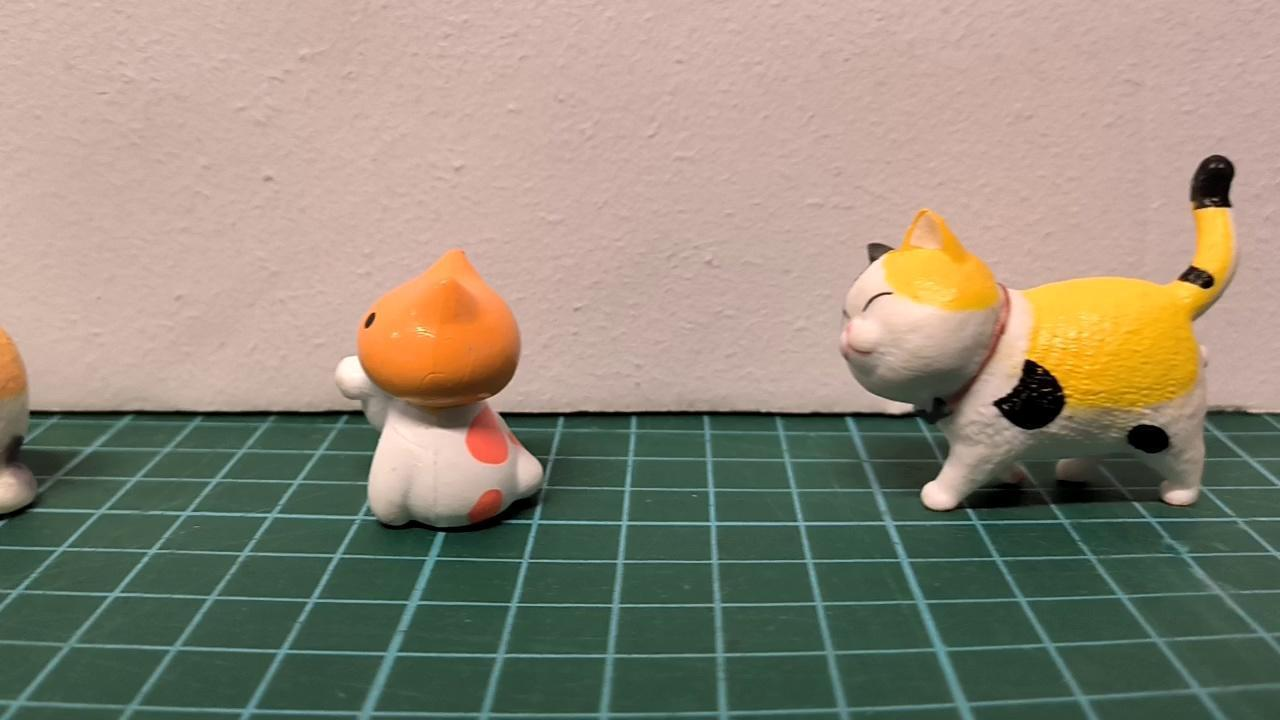pet: (828, 144, 1248, 511), (324, 241, 549, 532)
